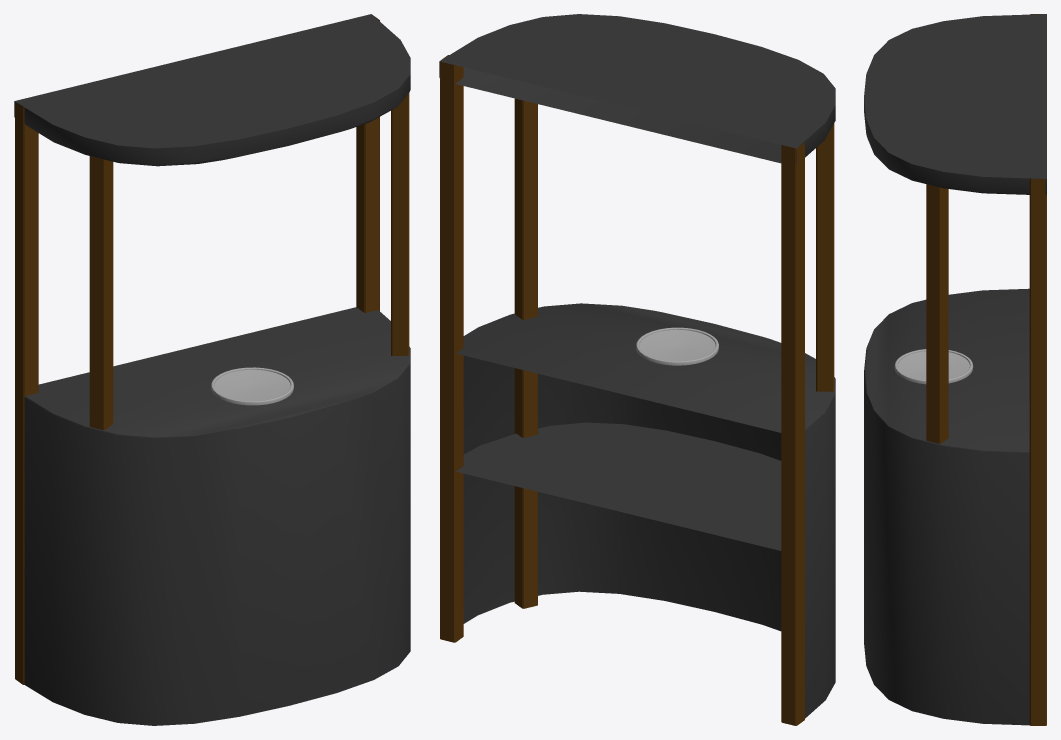
The model's file is Stand.fbx.
3 renders of one model, left to right at view 1: azimuth 30°, elevation 25°; view 2: azimuth 150°, elevation 25°; view 3: azimuth 270°, elevation 25°, orthographic. The views are drawn at different scales.
Visible parts, largest first — view 1: Stand, StandRoof, Pillars, Plate; view 2: Stand, Pillars, StandRoof, Plate; view 3: Stand, StandRoof, Pillars, Plate.
Part boxes in pixels (x1,y1,x2,y2): Stand: [24, 307, 410, 725]; StandRoof: [14, 14, 410, 166]; Pillars: [15, 15, 409, 684]; Plate: [211, 367, 293, 405]; Stand: [456, 303, 835, 718]; Pillars: [440, 55, 834, 725]; StandRoof: [439, 14, 835, 164]; Plate: [636, 327, 718, 365]; Stand: [864, 288, 1029, 725]; StandRoof: [864, 14, 1046, 195]; Pillars: [926, 14, 1046, 725]; Plate: [894, 349, 973, 384].
Size of the model in its own units: 129 by 200 by 60.64.
